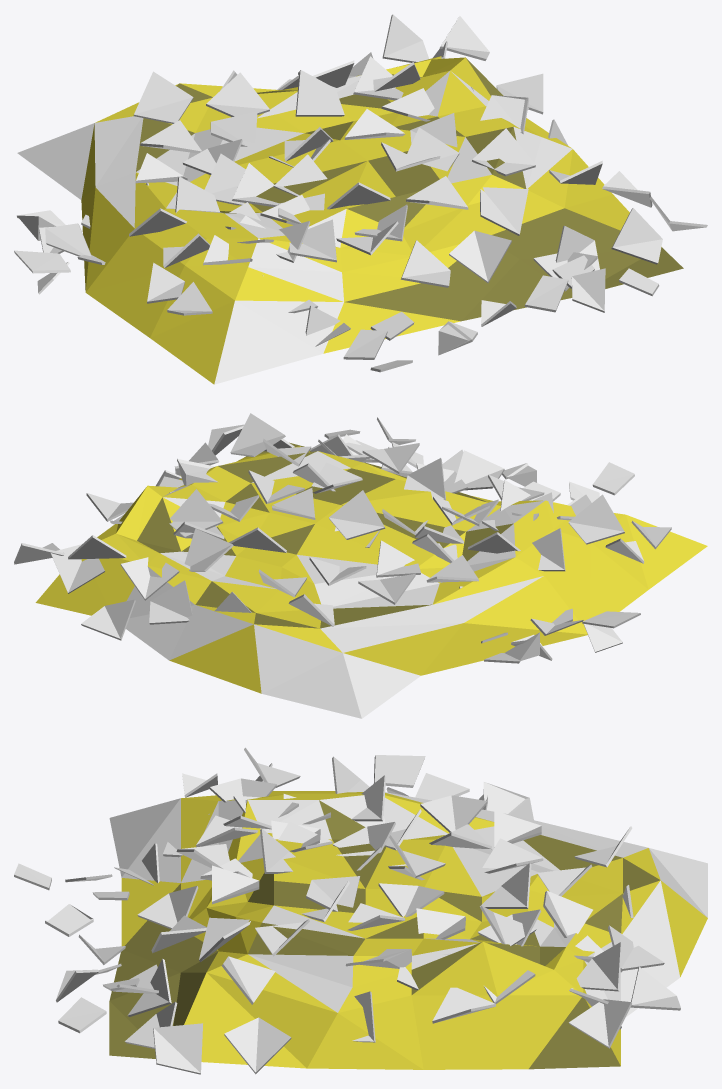
The model's file is LeavesCombined 1.fbx.
The picture shows the model from 3 angles, top to bottom: view 1: azimuth 30°, elevation 25°; view 2: azimuth 150°, elevation 25°; view 3: azimuth 270°, elevation 25°; orthographic projection. The views are drawn at different scales.
Visible parts, largest first — view 1: Cube; view 2: Cube; view 3: Cube.
Boxes of the visible parts, box(x1,y1,x2,y2) form: Cube: box(14, 14, 707, 384); Cube: box(14, 413, 707, 718); Cube: box(14, 747, 707, 1074).
Size of the model in its own units: 592 by 107 by 597.
